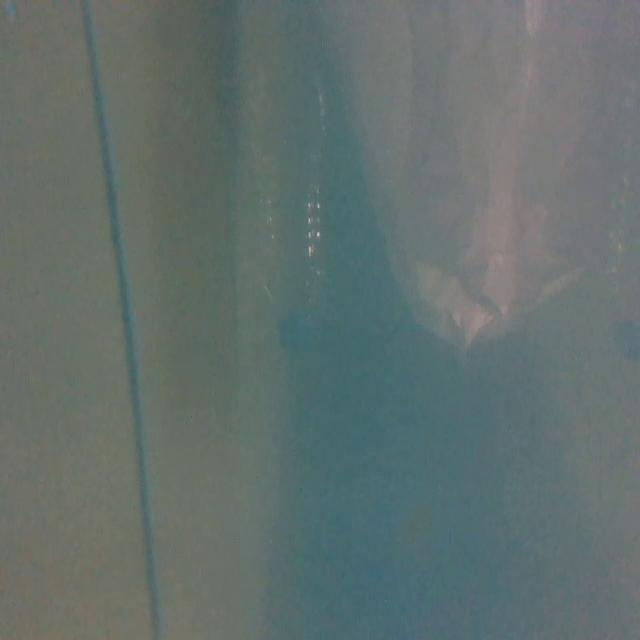plastic bags: (350, 1, 640, 357)
plastic bottle: (244, 61, 331, 357)
